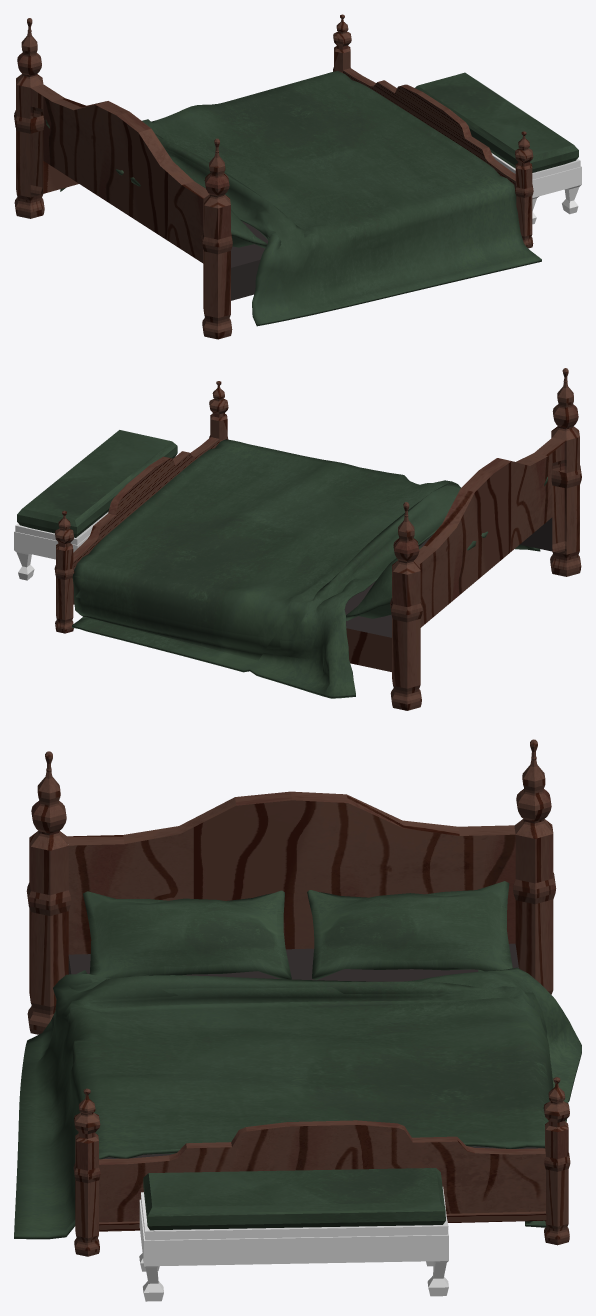
Rendered from yatak .fbx.
3 views of the same model, one above another, from view 1: azimuth 30°, elevation 25°; view 2: azimuth 150°, elevation 25°; view 3: azimuth 270°, elevation 25° (orthographic). The views are drawn at different scales.
Visible parts, largest first — view 1: Grid.006, yatak, arka ayak.001, koltuk yan şeyi.002, ön ayak, yastık; view 2: Grid.006, yatak, arka ayak.001, koltuk yan şeyi.002, ön ayak, yastık; view 3: Grid.006, yatak, yastık, koltuk yan şeyi.002, arka ayak.001, ön ayak.
Boxes of the visible parts, <box> form: Grid.006: <box>60,71,541,326</box>; yatak: <box>30,68,515,300</box>; arka ayak.001: <box>14,18,232,339</box>; koltuk yan şeyi.002: <box>415,72,581,224</box>; ön ayak: <box>333,14,533,248</box>; yastık: <box>45,120,266,248</box>; Grid.006: <box>72,439,540,698</box>; yatak: <box>73,437,566,671</box>; arka ayak.001: <box>390,368,581,710</box>; koltuk yan şeyi.002: <box>14,430,177,580</box>; ön ayak: <box>54,381,228,633</box>; yastık: <box>346,477,547,620</box>; Grid.006: <box>14,967,581,1239</box>; yatak: <box>67,791,546,1231</box>; yastık: <box>83,881,512,979</box>; koltuk yan şeyi.002: <box>139,1168,448,1301</box>; arka ayak.001: <box>26,739,556,1034</box>; ön ayak: <box>73,1077,570,1256</box>.
Size of the model in its own units: 525 by 226 by 422.
5 materials, 3 textured.
